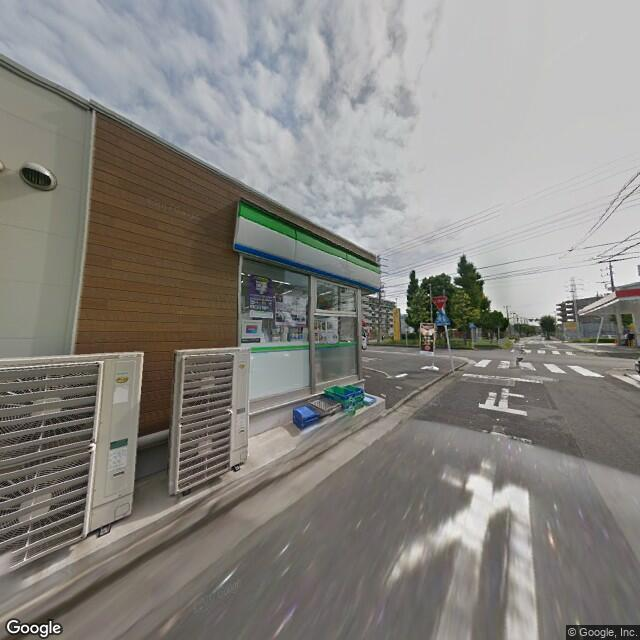family_mart: (234, 204, 382, 296)
